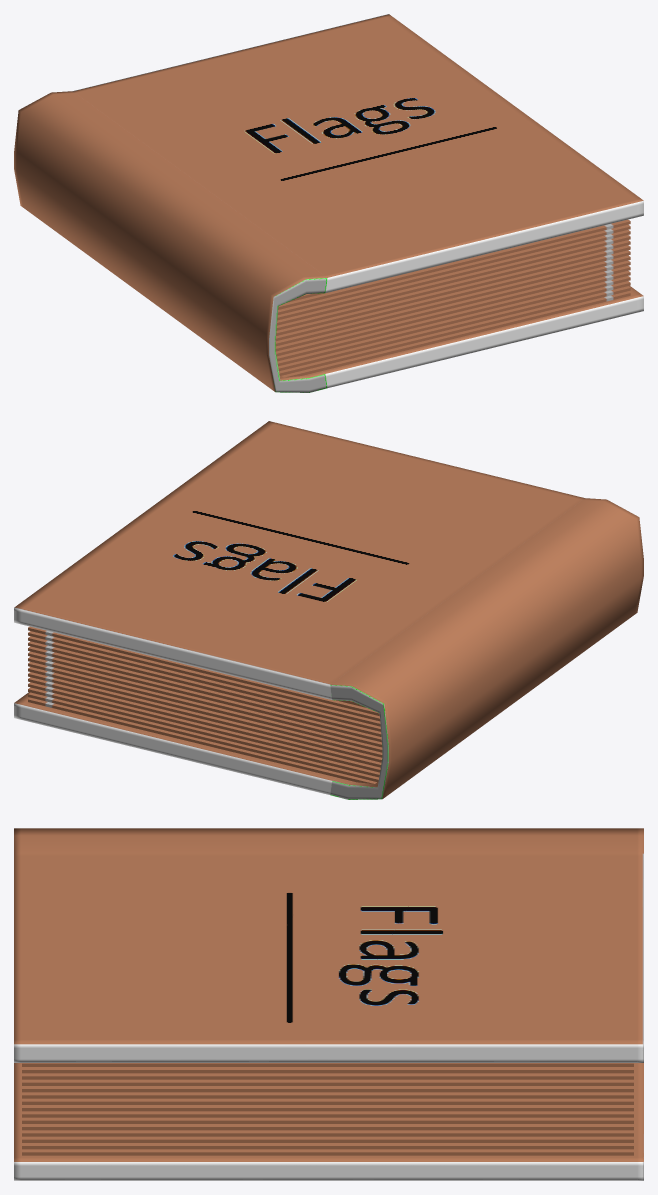
The model's file is flagbook.FBX.
3 views of the same model, one above another, from view 1: azimuth 30°, elevation 25°; view 2: azimuth 150°, elevation 25°; view 3: azimuth 270°, elevation 25° (orthographic). The views are drawn at different scales.
Parts seen in each view (by area): view 1: book; view 2: book; view 3: book.
Boxes of the visible parts, left/top/right/bottom form: book: left=14, top=14, right=643, bottom=392; book: left=14, top=421, right=643, bottom=799; book: left=14, top=828, right=643, bottom=1180.
Size of the model in its own units: 12.63 by 3.69 by 14.88.
1 material, 1 textured.
